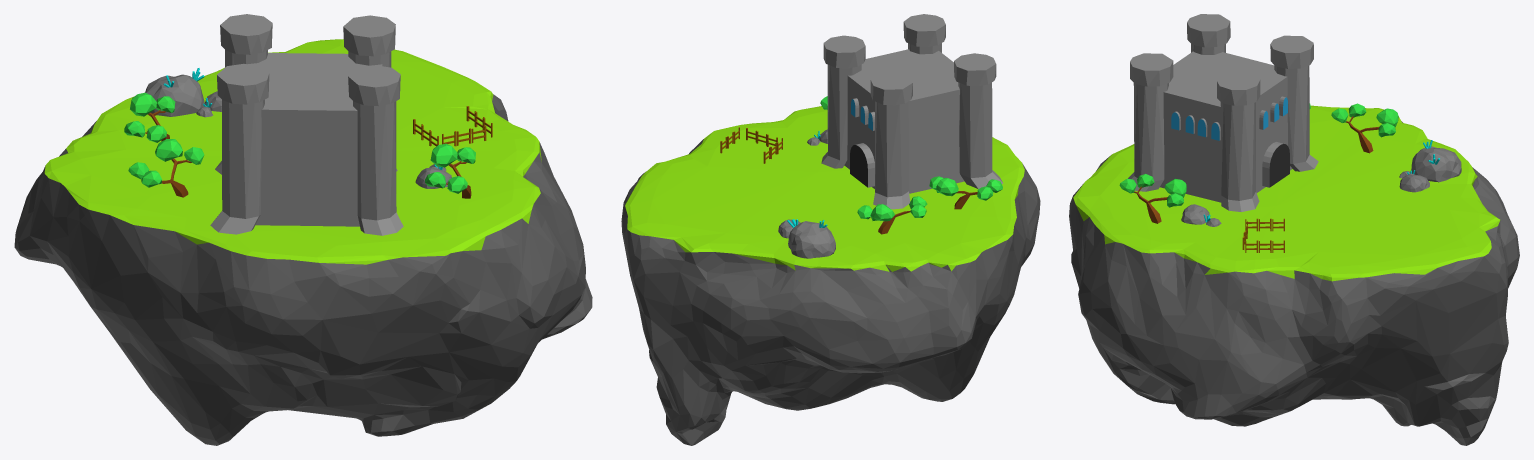
3 views of the same model, side by side, from view 1: azimuth 30°, elevation 25°; view 2: azimuth 150°, elevation 25°; view 3: azimuth 270°, elevation 25° (orthographic). The views are drawn at different scales.
Parts seen in each view (by area): view 1: Icosphere, Cylinder.003, Icosphere.002, Cube.005, Cube.004, Cube; view 2: Icosphere, Cylinder.003, Icosphere.002, Cube, Cube.005; view 3: Icosphere, Cylinder.003, Icosphere.002, Cube, Cube.004, Icosphere.003, Icosphere.001.
Part boxes in pixels (<box>): Icosphere: <box>14,39,592,445</box>; Cylinder.003: <box>210,14,403,235</box>; Icosphere.002: <box>145,74,204,116</box>; Cube.005: <box>128,139,204,197</box>; Cube.004: <box>425,143,475,198</box>; Cube: <box>124,92,175,142</box>; Icosphere: <box>621,106,1040,445</box>; Cylinder.003: <box>821,14,1003,209</box>; Icosphere.002: <box>788,221,835,258</box>; Cube: <box>857,196,927,234</box>; Cube.005: <box>929,176,1002,209</box>; Icosphere: <box>1069,105,1519,445</box>; Cylinder.003: <box>1128,14,1318,211</box>; Icosphere.002: <box>1411,146,1461,182</box>; Cube: <box>1331,103,1398,153</box>; Cube.004: <box>1119,174,1186,223</box>; Icosphere.003: <box>1181,204,1221,226</box>; Icosphere.001: <box>1399,171,1429,192</box>.
Bounding box in the file's own units: 4.09 × 3.49 × 4.17.
